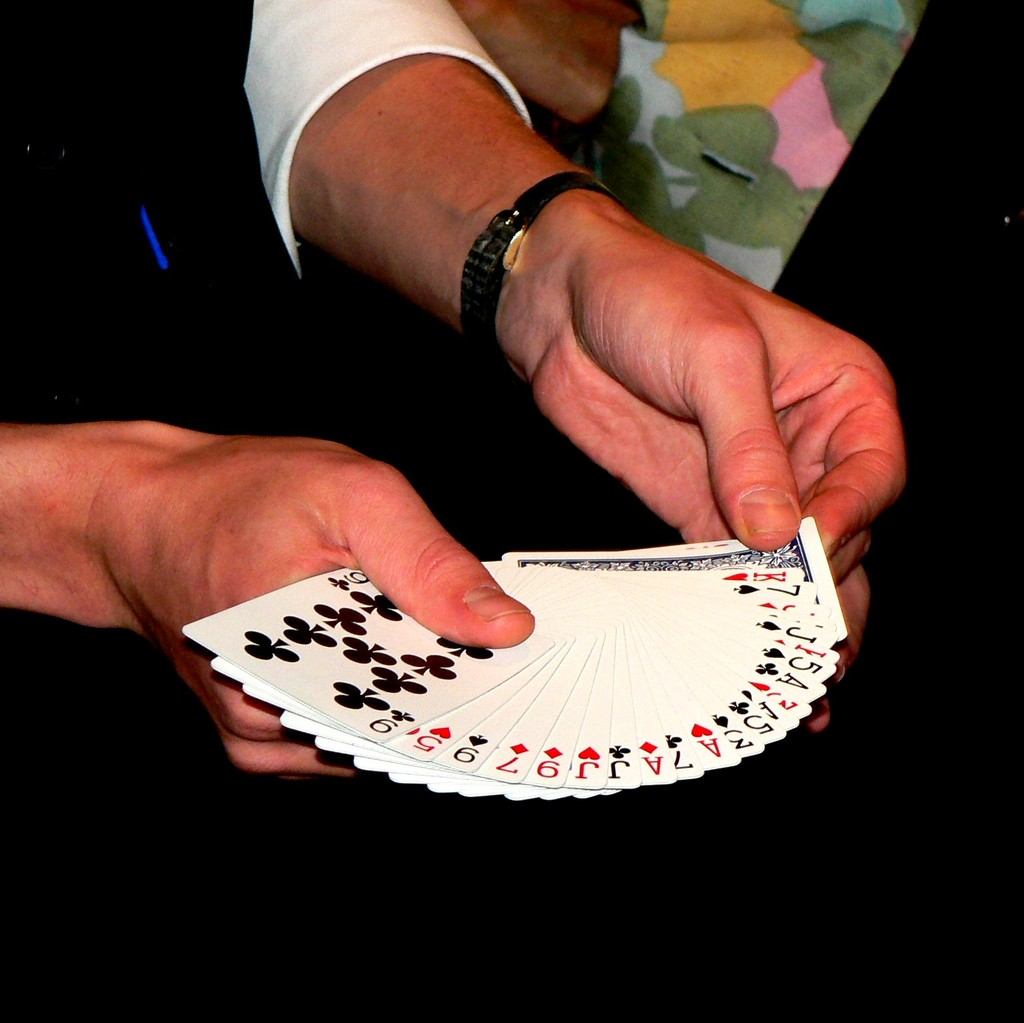Human_hand: (529, 246, 907, 735), (115, 439, 533, 782)
